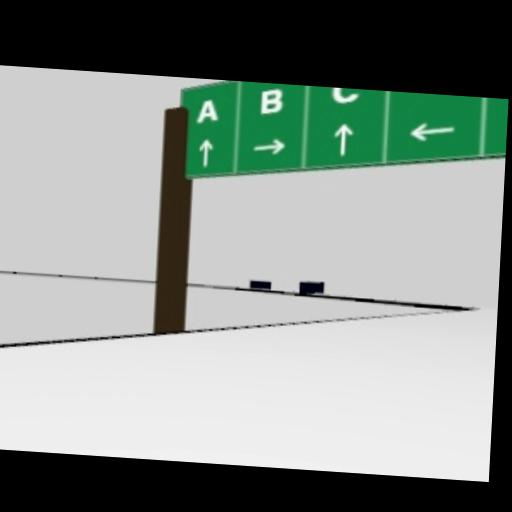A: (196, 96, 218, 122)
B: (259, 85, 282, 114)
C: (331, 87, 357, 104)
Left: (407, 118, 455, 144)
Right: (251, 136, 286, 155)
Straight: (332, 123, 354, 156), (198, 137, 214, 167)
